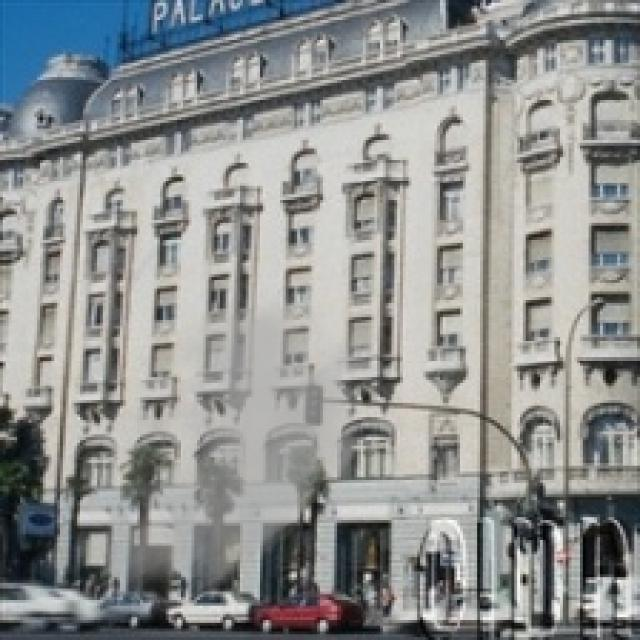smoke: (23, 269, 388, 634)
